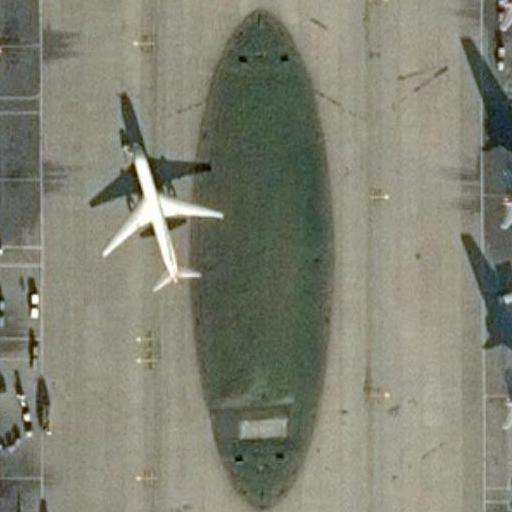Aircraft: (100, 136, 224, 291), (499, 307, 512, 486), (500, 106, 512, 284), (497, 0, 512, 84), (0, 0, 1, 94)
